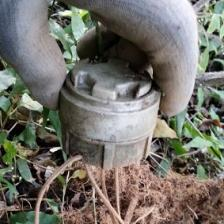M14: (61, 55, 157, 170)
